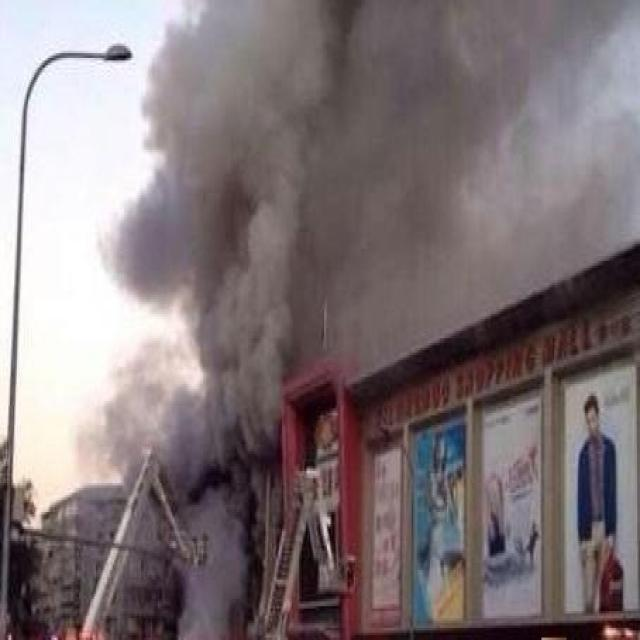Fire: (50, 626, 106, 640)
Smoke: (139, 1, 640, 365), (99, 0, 311, 639)
